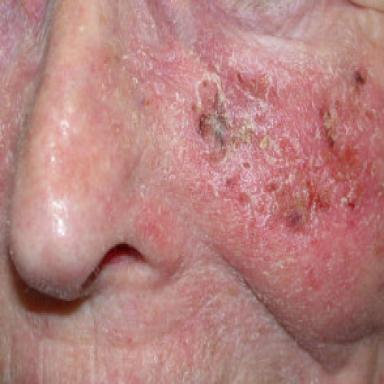eczema: (185, 39, 384, 238)
